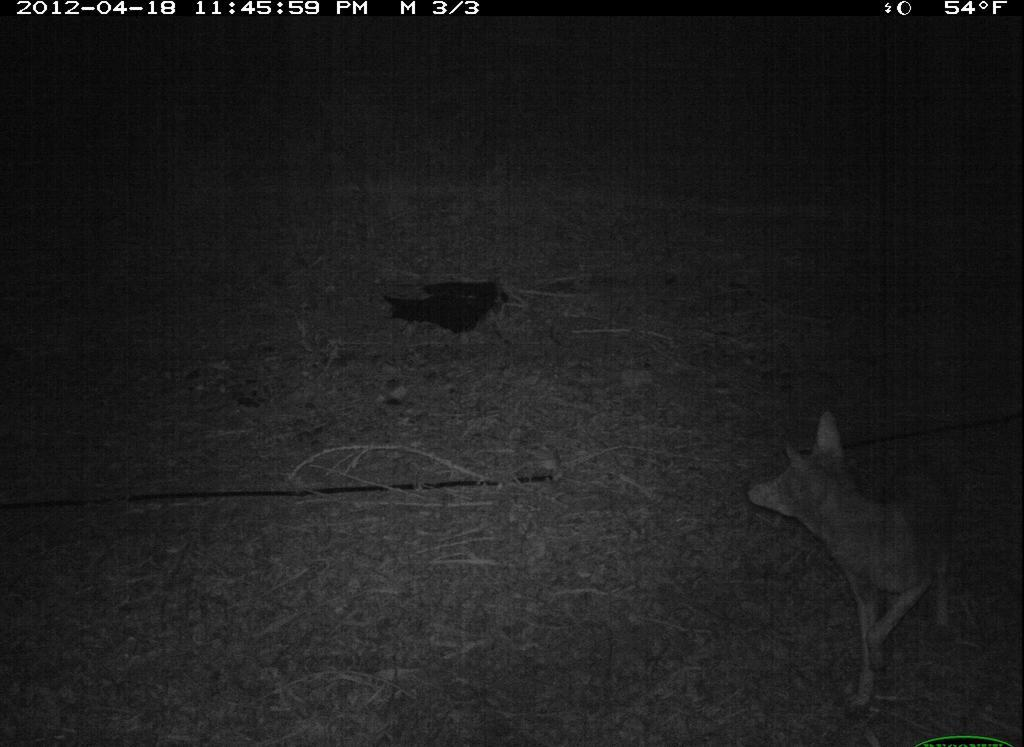coyote: (738, 386, 981, 717)
